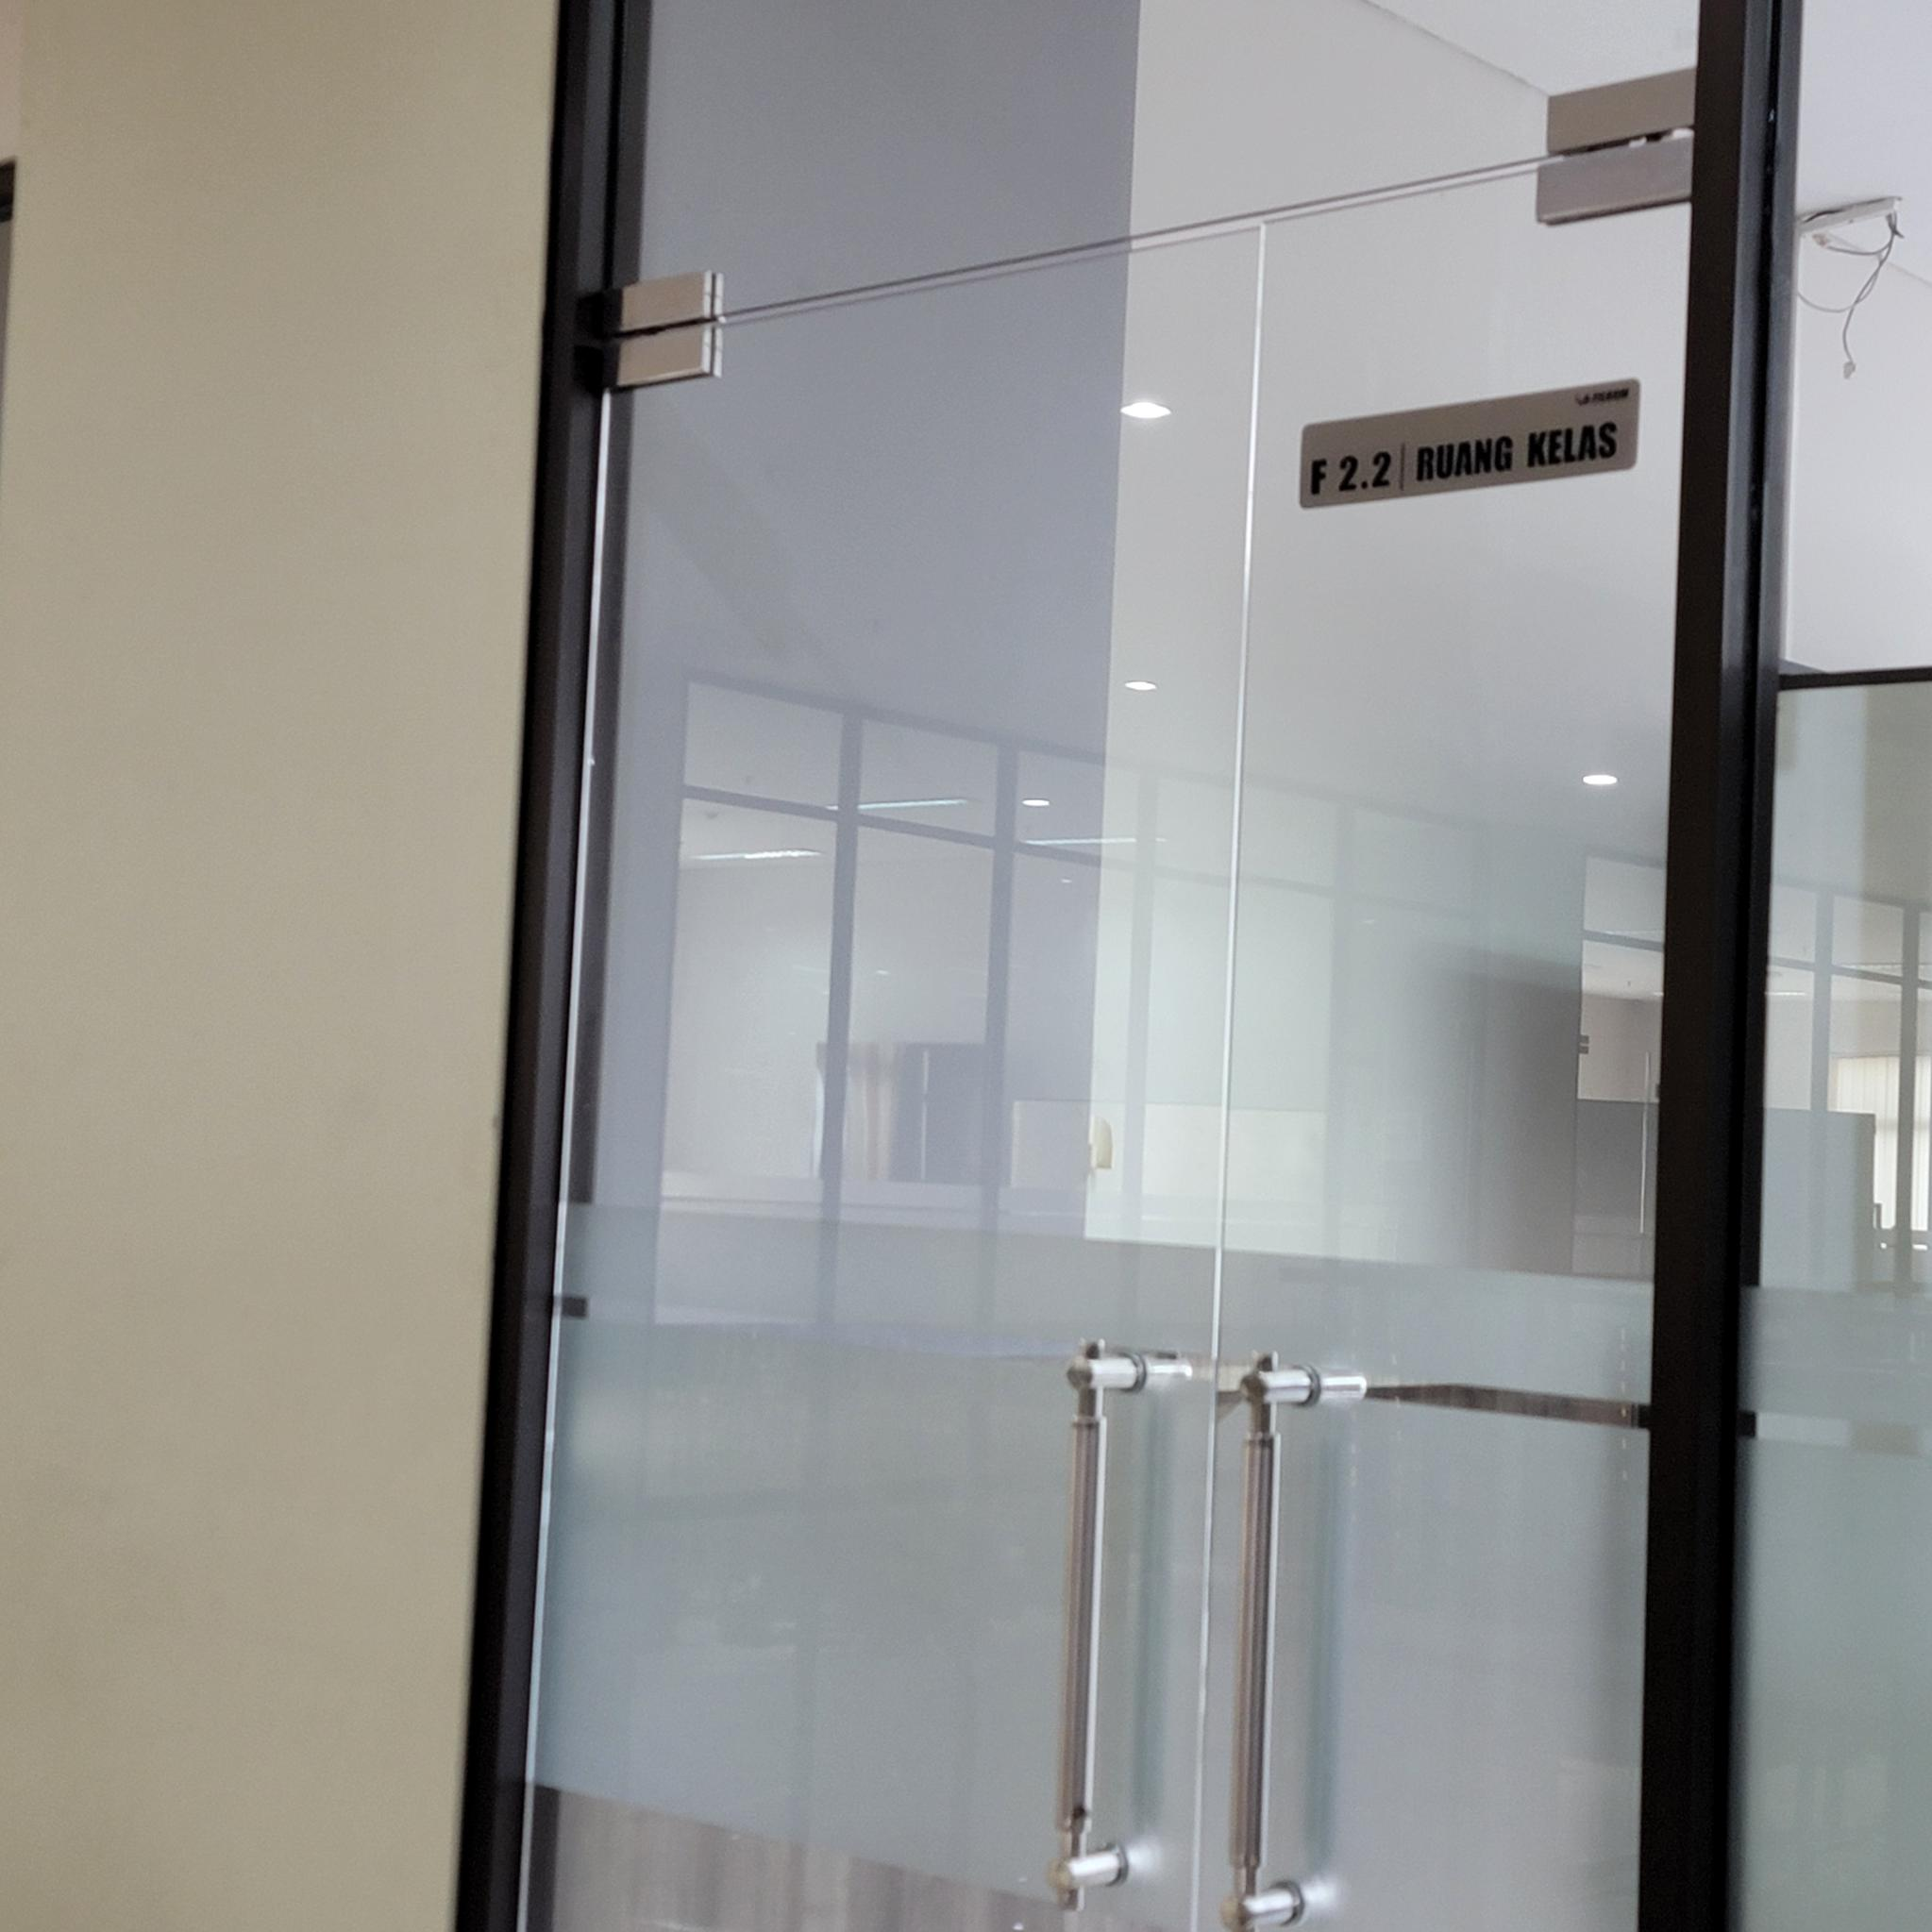plate: (1300, 379, 1638, 515)
